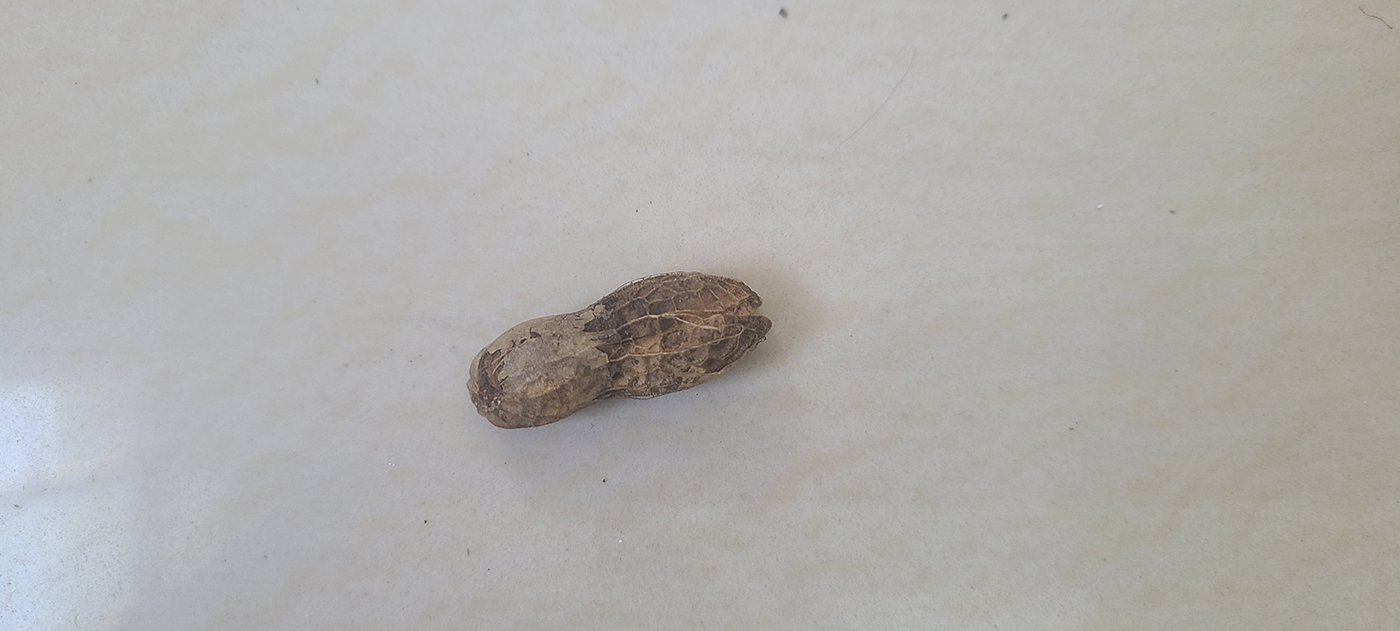l: (461, 269, 774, 433)
